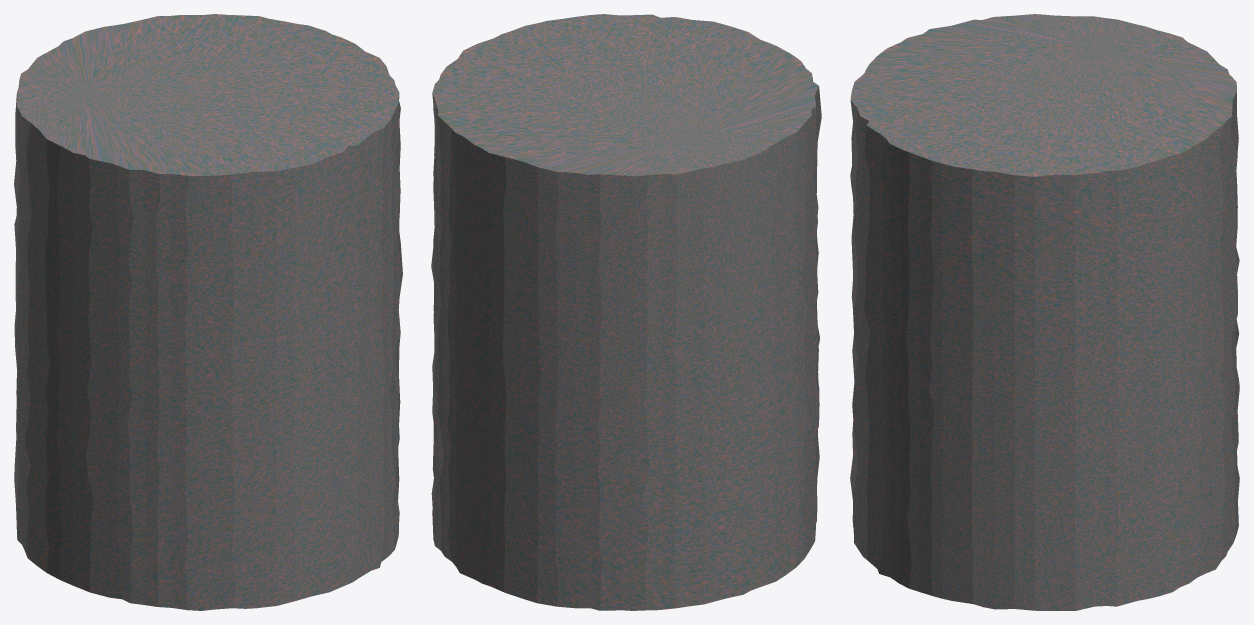
Rendered from barrel_2.dae.
The picture shows the model from 3 angles, left to right: view 1: azimuth 30°, elevation 25°; view 2: azimuth 150°, elevation 25°; view 3: azimuth 270°, elevation 25°; orthographic projection.
Parts seen in each view (by area): view 1: Cylinder; view 2: Cylinder; view 3: Cylinder.
Part boxes in pixels (x1,y1,x2,y2): Cylinder: [14, 14, 402, 610]; Cylinder: [431, 14, 821, 610]; Cylinder: [850, 14, 1239, 610].
Bounding box in the file's own units: 0.8117 × 0.8119 × 1.
Materials: 1 (1 with a texture image).
